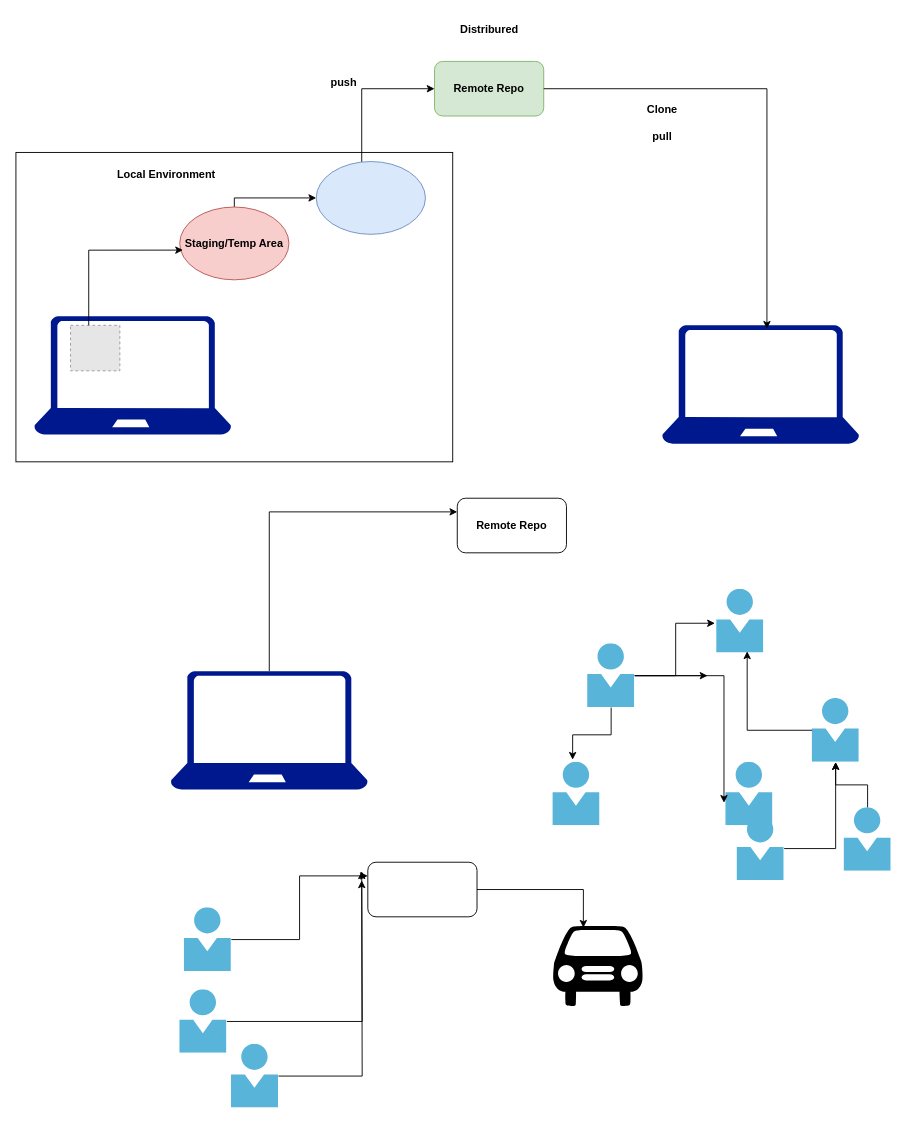
Image size: 907x1123. Some labels were removed from this diagram. Grey dashed boxes stand in for pictures. The centre of each missing label's shape, as x and y in pixels:
"local repo" goes at (x=370, y=197).
"Uber" goes at (x=422, y=889).
